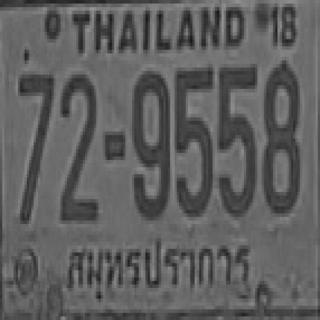N02: (58, 71, 96, 220)
N05: (172, 64, 213, 213), (217, 64, 255, 213)
N07: (17, 71, 53, 220)
N08: (262, 60, 298, 214)
N09: (131, 68, 169, 217)
P57: (62, 235, 256, 290)
